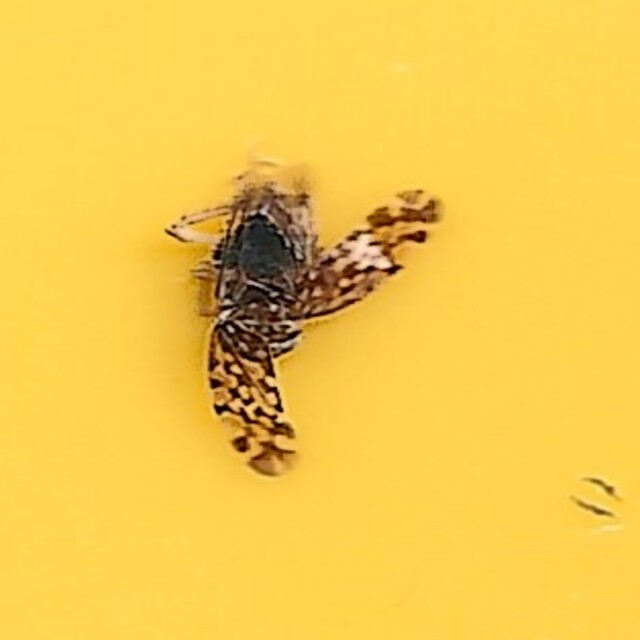Hemiptera: (204, 159, 436, 481)
